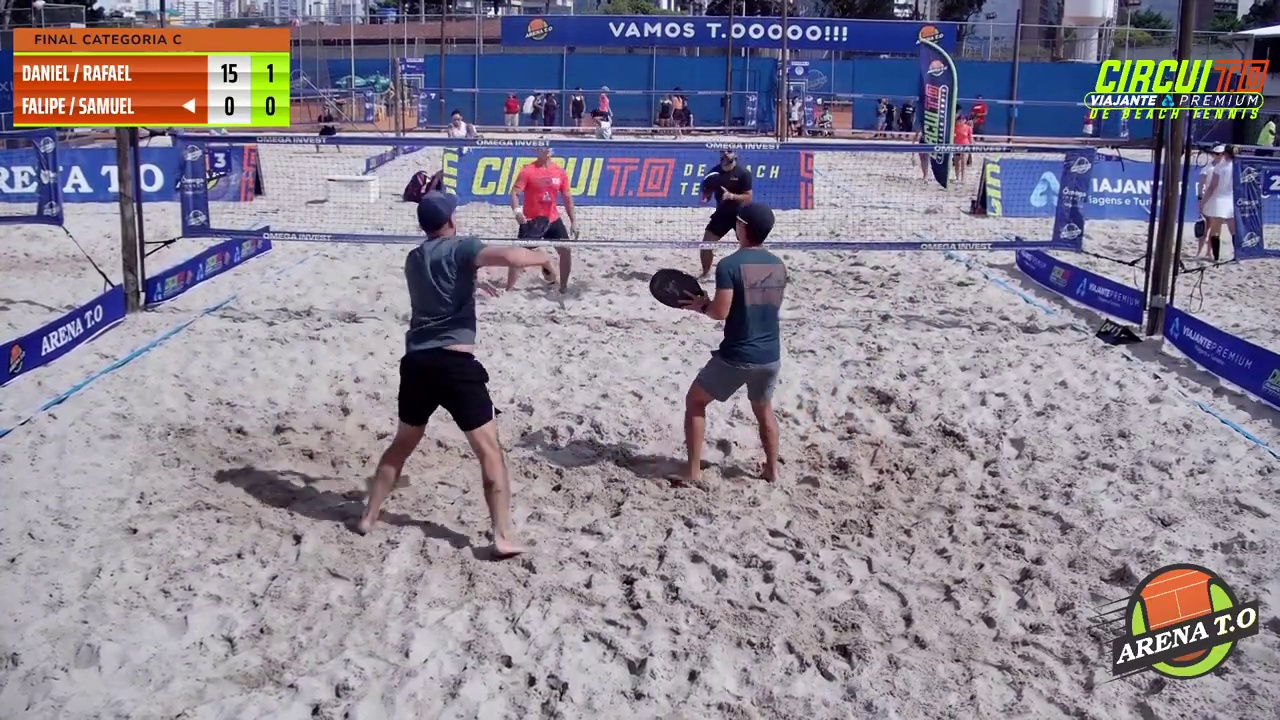court_line: (548, 0, 673, 420)
